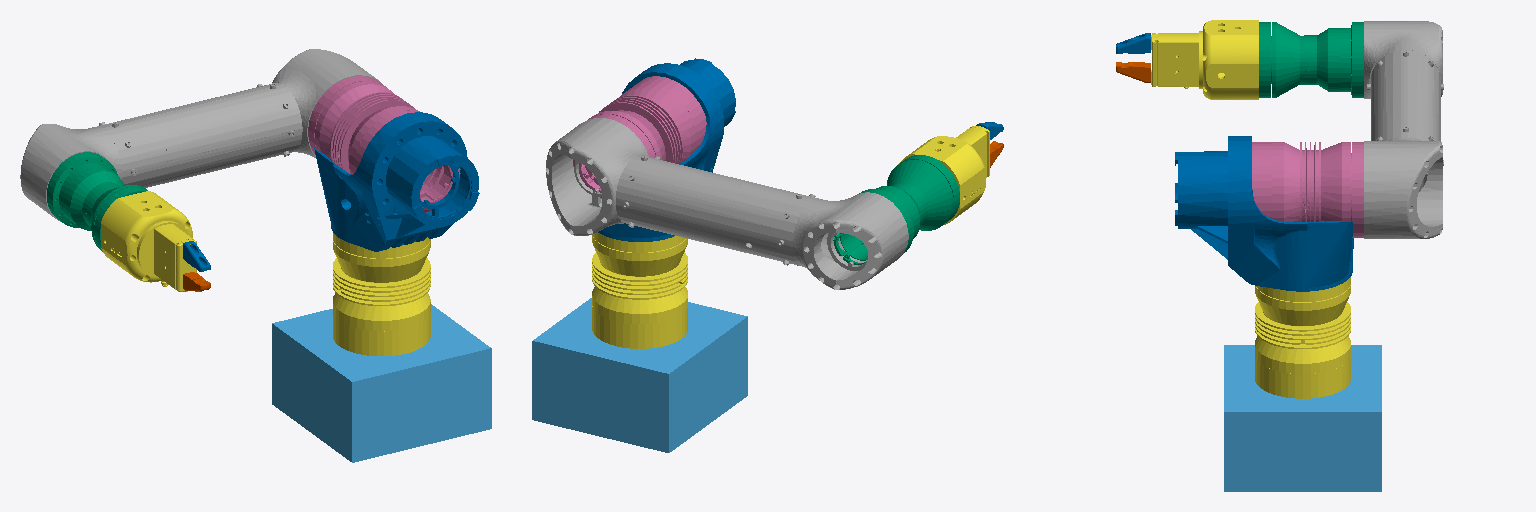
URDF robot description (modrob0):
<?xml version="1.0"?>
<robot name="modrob0">

	<link name="world"/>

	<gazebo>
		<plugin name="gazebo_ros_control" filename="libgazebo_ros_control.so">
			<robotNamespace>/modrob0</robotNamespace>
			<robotSimType>gazebo_ros_control/DefaultRobotHWSim</robotSimType>
		</plugin>
	</gazebo>

	<link name="part0">
		<visual>
			<origin rpy="0.000000 -0.000000 0.000000" xyz="0.000000 0.000000 0.100000"/>
			<geometry>
				<mesh filename="package://modrob_simulation/stl_files/B_simple.STL"/>
			</geometry>
		</visual>
		<collision>
			<origin rpy="0.000000 -0.000000 0.000000" xyz="0.000000 0.000000 0.050000"/>
			<geometry>
				<box size="0.180000 0.180000 0.100000"/>
			</geometry>
		</collision>
	</link>

	<gazebo reference="part0">
		<material>Gazebo/DarkGrey</material>
	</gazebo>

	<gazebo reference="part0">
		<kp>0.000000</kp>
		<kd>0.000000</kd>
		<mu1>0.000000</mu1>
		<mu2>0.000000</mu2>
	</gazebo>

	<link name="distal_link_of_joint0_NV">
		<inertial>
			<origin rpy="0.000000 0.000000 0.000000" xyz="0.000630 0.000190 -0.009660"/>
			<mass value="0.588000"/>
			<inertia ixx="0.000840" ixy="0.000000" ixz="-0.000011" iyy="0.000833" iyz="-0.000001" izz="0.000732"/>
		</inertial>
	</link>

	<gazebo reference="distal_link_of_joint0_NV">
		<material></material>
	</gazebo>

	<gazebo reference="distal_link_of_joint0_NV">
		<kp>0.000000</kp>
		<kd>0.000000</kd>
		<mu1>0.000000</mu1>
		<mu2>0.000000</mu2>
	</gazebo>

	<link name="proximal_link_of_joint0">
		<inertial>
			<origin rpy="0.000000 0.000000 0.000000" xyz="0.000180 0.000130 0.054300"/>
			<mass value="2.795000"/>
			<inertia ixx="0.014000" ixy="-0.000002" ixz="-0.000003" iyy="0.014000" iyz="0.000005" izz="0.000732"/>
		</inertial>
		<visual>
			<origin rpy="0.000000 -0.000000 0.000000" xyz="0.000000 0.000000 0.135300"/>
			<geometry>
				<mesh filename="package://modrob_simulation/stl_files/MXL_low_poly.STL"/>
			</geometry>
		</visual>
		<collision>
			<origin rpy="0.000000 -0.000000 0.000000" xyz="0.000000 0.000000 0.055150"/>
			<geometry>
				<box size="0.110000 0.110000 0.205480"/>
			</geometry>
		</collision>
	</link>

	<gazebo reference="proximal_link_of_joint0">
		<material>Gazebo/Blue</material>
	</gazebo>

	<gazebo reference="proximal_link_of_joint0">
		<kp>10000.000000</kp>
		<kd>10.000000</kd>
		<mu1>0.200000</mu1>
		<mu2>0.200000</mu2>
	</gazebo>

	<link name="link1">
		<inertial>
			<origin rpy="0.000000 0.000000 0.000000" xyz="0.000200 -0.036560 0.054520"/>
			<mass value="0.581910"/>
			<inertia ixx="0.004886" ixy="0.000007" ixz="-0.000007" iyy="0.003453" iyz="0.001714" izz="0.000000"/>
		</inertial>
		<visual>
			<origin rpy="2.356194 -1.570796 2.356194" xyz="0.000000 -0.065500 0.100900"/>
			<geometry>
				<mesh filename="package://modrob_simulation/stl_files/L_Rasmus_01_90_LL_low_poly.STL"/>
			</geometry>
		</visual>
		<collision>
			<origin rpy="2.356194 -1.570796 2.356194" xyz="0.000000 -0.043660 0.081282"/>
			<geometry>
				<box size="0.162565 0.123596 0.203680"/>
			</geometry>
		</collision>
	</link>

	<gazebo reference="link1">
		<material>Gazebo/DarkGrey</material>
	</gazebo>

	<gazebo reference="link1">
		<kp>0.000000</kp>
		<kd>0.000000</kd>
		<mu1>0.000000</mu1>
		<mu2>0.000000</mu2>
	</gazebo>

	<gazebo reference="link1">
		<sensor name="link1_contact_sensor" type="contact">
			<always_on>1</always_on>
			<plugin name="modrob_contact_plugin" filename="libmodrob_contact_plugin.so">
				<name_space>modrob0</name_space>
			</plugin>
			<contact>
				<collision>distal_link_of_joint0_NV_fixed_joint_lump__link1_collision</collision>
			</contact>
		</sensor>
	</gazebo>

	<link name="distal_link_of_joint1_NV">
		<inertial>
			<origin rpy="0.000000 0.000000 0.000000" xyz="0.000630 0.000190 -0.009660"/>
			<mass value="0.588000"/>
			<inertia ixx="0.000840" ixy="0.000000" ixz="-0.000011" iyy="0.000833" iyz="-0.000001" izz="0.000732"/>
		</inertial>
	</link>

	<gazebo reference="distal_link_of_joint1_NV">
		<material></material>
	</gazebo>

	<gazebo reference="distal_link_of_joint1_NV">
		<kp>0.000000</kp>
		<kd>0.000000</kd>
		<mu1>0.000000</mu1>
		<mu2>0.000000</mu2>
	</gazebo>

	<link name="proximal_link_of_joint1">
		<inertial>
			<origin rpy="0.000000 0.000000 0.000000" xyz="0.000180 0.000130 0.054300"/>
			<mass value="2.795000"/>
			<inertia ixx="0.014000" ixy="0.000002" ixz="0.000003" iyy="0.014000" iyz="-0.000005" izz="0.000732"/>
		</inertial>
		<visual>
			<origin rpy="3.141593 -3.141593 1.570796" xyz="0.000000 0.000000 0.135300"/>
			<geometry>
				<mesh filename="package://modrob_simulation/stl_files/MXL+90_low_poly.STL"/>
			</geometry>
		</visual>
		<collision>
			<origin rpy="3.141593 -3.141593 1.570796" xyz="0.000000 0.000000 0.055150"/>
			<geometry>
				<box size="0.110000 0.110000 0.205480"/>
			</geometry>
		</collision>
	</link>

	<gazebo reference="proximal_link_of_joint1">
		<material>Gazebo/Blue</material>
	</gazebo>

	<gazebo reference="proximal_link_of_joint1">
		<kp>10000.000000</kp>
		<kd>10.000000</kd>
		<mu1>0.200000</mu1>
		<mu2>0.200000</mu2>
	</gazebo>

	<gazebo reference="proximal_link_of_joint1">
		<sensor name="proximal_link_of_joint1_contact_sensor" type="contact">
			<always_on>1</always_on>
			<plugin name="modrob_contact_plugin" filename="libmodrob_contact_plugin.so">
				<name_space>modrob0</name_space>
			</plugin>
			<contact>
				<collision>distal_link_of_joint0_NV_fixed_joint_lump__proximal_link_of_joint1_collision_1</collision>
			</contact>
		</sensor>
	</gazebo>

	<link name="link2">
		<inertial>
			<origin rpy="0.000000 0.000000 0.000000" xyz="0.196128 0.000005 0.044778"/>
			<mass value="1.591660"/>
			<inertia ixx="0.005537" ixy="-0.000002" ixz="-0.014137" iyy="0.093690" iyz="-0.000001" izz="0.000000"/>
		</inertial>
		<visual>
			<origin rpy="-3.141593 -0.000000 0.000000" xyz="0.350000 0.000000 0.000000"/>
			<geometry>
				<mesh filename="package://modrob_simulation/stl_files/L_360_350_LS_low_poly.STL"/>
			</geometry>
		</visual>
		<collision>
			<origin rpy="-3.141593 -0.000000 0.000000" xyz="0.169000 0.000002 0.045500"/>
			<geometry>
				<box size="0.449999 0.111992 0.091000"/>
			</geometry>
		</collision>
	</link>

	<gazebo reference="link2">
		<material>Gazebo/DarkGrey</material>
	</gazebo>

	<gazebo reference="link2">
		<kp>0.000000</kp>
		<kd>0.000000</kd>
		<mu1>0.000000</mu1>
		<mu2>0.000000</mu2>
	</gazebo>

	<gazebo reference="link2">
		<sensor name="link2_contact_sensor" type="contact">
			<always_on>1</always_on>
			<plugin name="modrob_contact_plugin" filename="libmodrob_contact_plugin.so">
				<name_space>modrob0</name_space>
			</plugin>
			<contact>
				<collision>distal_link_of_joint1_NV_fixed_joint_lump__link2_collision</collision>
			</contact>
		</sensor>
	</gazebo>

	<link name="tool_dummy">
		<inertial>
			<origin rpy="0.000000 0.000000 0.000000" xyz="0.000610 0.000080 0.047140"/>
			<mass value="0.000000"/>
			<inertia ixx="0.000000" ixy="0.000000" ixz="0.000000" iyy="0.000000" iyz="0.000000" izz="0.000000"/>
		</inertial>
	</link>

	<gazebo reference="tool_dummy">
		<material></material>
	</gazebo>

	<gazebo reference="tool_dummy">
		<kp>0.000000</kp>
		<kd>0.000000</kd>
		<mu1>0.000000</mu1>
		<mu2>0.000000</mu2>
	</gazebo>

	<link name="distal_link_of_joint2_NV">
		<inertial>
			<origin rpy="0.000000 0.000000 0.000000" xyz="-0.000044 -0.000008 -0.001115"/>
			<mass value="0.289400"/>
			<inertia ixx="0.000178" ixy="-0.000000" ixz="-0.000000" iyy="0.000178" iyz="0.000000" izz="0.000192"/>
		</inertial>
	</link>

	<gazebo reference="distal_link_of_joint2_NV">
		<material></material>
	</gazebo>

	<gazebo reference="distal_link_of_joint2_NV">
		<kp>0.000000</kp>
		<kd>0.000000</kd>
		<mu1>0.000000</mu1>
		<mu2>0.000000</mu2>
	</gazebo>

	<link name="proximal_link_of_joint2">
		<inertial>
			<origin rpy="0.000000 0.000000 0.000000" xyz="0.000610 0.000080 0.047140"/>
			<mass value="1.253380"/>
			<inertia ixx="0.004000" ixy="0.000000" ixz="0.000016" iyy="0.005000" iyz="-0.000000" izz="0.000192"/>
		</inertial>
		<visual>
			<origin rpy="0.000000 -0.000000 0.000000" xyz="0.000000 0.000000 0.119550"/>
			<geometry>
				<mesh filename="package://modrob_simulation/stl_files/MS_low_poly.STL"/>
			</geometry>
		</visual>
		<collision>
			<origin rpy="0.000000 -0.000000 0.000000" xyz="0.000000 0.000000 0.047275"/>
			<geometry>
				<box size="0.086000 0.086000 0.189730"/>
			</geometry>
		</collision>
	</link>

	<gazebo reference="proximal_link_of_joint2">
		<material>Gazebo/Blue</material>
	</gazebo>

	<gazebo reference="proximal_link_of_joint2">
		<kp>10000.000000</kp>
		<kd>10.000000</kd>
		<mu1>0.200000</mu1>
		<mu2>0.200000</mu2>
	</gazebo>

	<gazebo reference="proximal_link_of_joint2">
		<sensor name="proximal_link_of_joint2_contact_sensor" type="contact">
			<always_on>1</always_on>
			<plugin name="modrob_contact_plugin" filename="libmodrob_contact_plugin.so">
				<name_space>modrob0</name_space>
			</plugin>
			<contact>
				<collision>distal_link_of_joint1_NV_fixed_joint_lump__proximal_link_of_joint2_collision_1</collision>
			</contact>
		</sensor>
	</gazebo>


	<link name="hand">
		<inertial>
			<origin rpy="0.000000 0.000000 0.000000" xyz="0.000000 0.000000 0.06250"/>
			<mass value="0.184000"/>
			<inertia ixx="0.550000" ixy="-0.000002" ixz="-0.000003" iyy="0.930000" iyz="0.000005" izz="0.550000"/>
		</inertial>
		<visual>
			<origin rpy="0.000000 -0.000000 0.000000" xyz="0.000000 0.000000 0.06250"/>
		<geometry>
				<mesh filename="package://modrob_simulation/stl_files/E_Schimaneck.STL"/>
			</geometry>
		</visual>
		<collision>
			<origin rpy="0.000000 -0.000000 0.000000" xyz="0.002343744 0.000000 0.02165501"/>
			<geometry>
				<box size="0.08531006 0.08485281 0.1616900"/>
			</geometry>
			</collision>
	</link>

	<gazebo reference="hand">
		<material>Gazebo/DarkGrey</material>
	</gazebo>

	<gazebo reference="hand">
		<kp>0.000000</kp>
		<kd>0.000000</kd>
		<mu1>0.000000</mu1>
		<mu2>0.000000</mu2>
	</gazebo>

	<gazebo reference="hand">
		<sensor name="hand_collision_sensor" type="contact">
			<always_on>true</always_on>
			<plugin name="modrob_contact_plugin" filename="libmodrob_contact_plugin.so">
				<name_space>modrob0</name_space>
			</plugin>
			<contact>
				<collision>distal_link_of_joint2_NV_fixed_joint_lump__hand_collision</collision>
			</contact>
		</sensor>
	</gazebo>

	<link name="finger1">
		<inertial>
			<origin rpy="0.00000 0.000000 0.0" xyz="0.0 -0.000 0.001500"/>
			<mass value="0.006944"/>
			<inertia ixx="0.000004629" ixy="0.000000486" ixz="0.000000972" iyy="0.000004157" iyz="0.000001389" izz="0.00000138"/>
		</inertial>
		<visual>
			<origin rpy="0.000000 0.000000 0.0" xyz="0.0 -0.000 0.001500"/>
			<geometry>
				<mesh filename="package://modrob_simulation/stl_files/finger_Birne_Gimatic_m.STL"/>
			</geometry>
		</visual>
	</link>

	<gazebo reference="finger1">
		<material>Gazebo/Blue</material>
	</gazebo>

	<gazebo reference="finger1">
		<kp>110.000000</kp>
		<kd>10.000000</kd>
		<mu1>100.00</mu1>
		<mu2>100.00</mu2>
	</gazebo>

	<link name="finger2">
		<inertial>
			<origin rpy="0.00000 0.000000 0.0" xyz="0.000 0.00 0.001500"/>
			<mass value="0.006944"/>
			<inertia ixx="0.000004629" ixy="0.000000486" ixz="0.000000972" iyy="0.000004157" iyz="0.000001389" izz="0.00000138"/>
		</inertial>
		<visual>
			<origin rpy="0.000000 0.000000 0.0" xyz="0.000 0.00 0.001500"/>
			<geometry>
				<mesh filename="package://modrob_simulation/stl_files/finger_Birne_Gimatic_m.STL"/>
			</geometry>
		</visual>
	</link>

	<gazebo reference="finger2">
		<material>Gazebo/Blue</material>
	</gazebo>

	<gazebo reference="finger2">
		<kp>110.000000</kp>
		<kd>10.000000</kd>
		<mu1>100.00</mu1>
		<mu2>100.00</mu2>
	</gazebo>

	<joint name="fixed" type="fixed">
		<parent link="world"/>
		<child link="part0"/>
	</joint>
	<joint name="part0_joint0" type="fixed">
		<origin xyz="0.000000 0.000000 0.100000" rpy="0.000000 -0.000000 0.000000"/>
		<parent link="part0"/>
		<child link="proximal_link_of_joint0"/>
		<axis xyz="0.000000 0.000000 0.000000"/>
		<dynamics damping="0.000000" friction="0.000000"/>
	</joint>

	<joint name="joint0_link1" type="fixed">
		<origin xyz="0.000000 0.000000 0.135300" rpy="0.000000 -0.000000 0.000000"/>
		<parent link="distal_link_of_joint0_NV"/>
		<child link="link1"/>
		<axis xyz="0.000000 0.000000 0.000000"/>
		<dynamics damping="0.000000" friction="0.000000"/>
	</joint>

	<joint name="joint0" type="revolute">
		<origin xyz="0.000000 0.000000 0.000000" rpy="0.000000 -0.000000 0.000000"/>
		<parent link="proximal_link_of_joint0"/>
		<child link="distal_link_of_joint0_NV"/>
		<axis xyz="0.000000 0.000000 1.000000"/>
		<dynamics damping="51.459999" friction="36.560001"/>
		<limit effort="205.919998" velocity="1.890000" lower="-3.141593" upper="3.141593"/>
		<sensor name="force_torque_joint0" type="force_torque">
			<update_rate>100</update_rate>
		</sensor>
	</joint>

	<transmission name="trans0">
		<type>transmission_interface/SimpleTransmission</type>
		<joint name="joint0">
			<hardwareInterface>hardware_interface/EffortJointInterface</hardwareInterface>
		</joint>
		<actuator name="motor0">
			<hardwareInterface>hardware_interface/EffortJointInterface</hardwareInterface>
			<mechanicalReduction>160.000000</mechanicalReduction>
		</actuator>
	</transmission>

	<joint name="link1_joint1" type="fixed">
		<origin xyz="0.000000 -0.065500 0.100900" rpy="2.356194 -1.570796 2.356194"/>
		<parent link="link1"/>
		<child link="proximal_link_of_joint1"/>
		<axis xyz="0.000000 0.000000 0.000000"/>
		<dynamics damping="0.000000" friction="0.000000"/>
	</joint>

	<joint name="joint1_link2" type="fixed">
		<origin xyz="0.000000 0.000000 0.135300" rpy="3.141593 -3.141593 1.570796"/>
		<parent link="distal_link_of_joint1_NV"/>
		<child link="link2"/>
		<axis xyz="0.000000 0.000000 0.000000"/>
		<dynamics damping="0.000000" friction="0.000000"/>
	</joint>

	<joint name="joint1" type="revolute">
		<origin xyz="0.000000 0.000000 0.000000" rpy="0.000000 -0.000000 0.000000"/>
		<parent link="proximal_link_of_joint1"/>
		<child link="distal_link_of_joint1_NV"/>
		<axis xyz="0.000000 0.000000 1.000000"/>
		<dynamics damping="51.459999" friction="36.560001"/>
		<limit effort="205.919998" velocity="0.800000" lower="-3.141593" upper="3.141593"/>
		<sensor name="force_torque_joint1" type="force_torque">
			<update_rate>100</update_rate>
		</sensor>
	</joint>

	<transmission name="trans1">
		<type>transmission_interface/SimpleTransmission</type>
		<joint name="joint1">
			<hardwareInterface>hardware_interface/EffortJointInterface</hardwareInterface>
		</joint>
		<actuator name="motor1">
			<hardwareInterface>hardware_interface/EffortJointInterface</hardwareInterface>
			<mechanicalReduction>160.000000</mechanicalReduction>
		</actuator>
	</transmission>

	<joint name="link2_joint2" type="fixed">
		<origin xyz="0.350000 0.000000 0.000000" rpy="-3.141593 -0.000000 0.000000"/>
		<parent link="link2"/>
		<child link="proximal_link_of_joint2"/>
		<axis xyz="0.000000 0.000000 0.000000"/>
		<dynamics damping="0.000000" friction="0.000000"/>
	</joint>

	<joint name="joint2_tool_dummy" type="fixed">
		<origin xyz="0.000000 0.000000 0.119550" rpy="0.000000 -0.000000 0.000000"/>
		<parent link="distal_link_of_joint2_NV"/>
		<child link="tool_dummy"/>
		<axis xyz="0.000000 0.000000 0.000000"/>
		<dynamics damping="0.000000" friction="0.000000"/>
	</joint>

	<joint name="joint2" type="revolute">
		<origin xyz="0.000000 0.000000 0.000000" rpy="0.000000 -0.000000 0.000000"/>
		<parent link="proximal_link_of_joint2"/>
		<child link="distal_link_of_joint2_NV"/>
		<axis xyz="0.000000 0.000000 1.000000"/>
		<dynamics damping="13.170000" friction="6.019000"/>
		<limit effort="54.000000" velocity="3.050000" lower="-3.141593" upper="3.141593"/>
		<sensor name="force_torque_joint2" type="force_torque">
			<update_rate>100</update_rate>
		</sensor>
	</joint>

	<transmission name="trans2">
		<type>transmission_interface/SimpleTransmission</type>
		<joint name="joint2">
			<hardwareInterface>hardware_interface/EffortJointInterface</hardwareInterface>
		</joint>
		<actuator name="motor2">
			<hardwareInterface>hardware_interface/EffortJointInterface</hardwareInterface>
			<mechanicalReduction>120.000000</mechanicalReduction>
		</actuator>
	</transmission>


	<joint name="fixed_gripper_to_arm_link" type="fixed">
		<origin rpy="0.000000 0.000000 0.000000" xyz="0.000000 0.000000 0.059775"/>
		<parent link="tool_dummy"/>
		<child link="hand"/>
	</joint>

	<joint name="hand_to_finger1" type="prismatic">
		<origin rpy="0.000000 0.000000 +1.570796327" xyz="0.00700 -0.03200 0.06200"/>
		<parent link="hand"/>
		<child link="finger1"/>
		<dynamics damping="12.590000" friction="0.400000"/>
		<limit effort="3.0" lower="-0.0" upper="0.0100" velocity="0.5"/> <!-- was 0.38 and 0.0 -->
	</joint>

	<joint name="hand_to_finger2" type="prismatic">
		<origin rpy="0.000000 0.000000 -1.570796327" xyz="-0.00700 0.0620 0.06200"/>
		<parent link="hand"/>
		<child link="finger2"/>
		<dynamics damping="12.590000" friction="0.400000"/>
		<limit effort="3.0" lower="0.03" upper="0.04" velocity="0.5"/>
	</joint>

	<transmission name="trans_hand_to_finger1">
		<type>transmission_interface/SimpleTransmission</type>
		<joint name="hand_to_finger1">
			<hardwareInterface>hardware_interface/EffortJointInterface</hardwareInterface>
		</joint>
		<actuator name="motor_hand_to_finger1">
			<hardwareInterface>hardware_interface/EffortJointInterface</hardwareInterface>
			<mechanicalReduction>160</mechanicalReduction>
		</actuator>
	</transmission>

	<transmission name="trans_hand_to_finger2">
		<type>transmission_interface/SimpleTransmission</type>
		<joint name="hand_to_finger2">
			<hardwareInterface>hardware_interface/EffortJointInterface</hardwareInterface>
		</joint>
		<actuator name="motor_hand_to_finger2">
			<hardwareInterface>hardware_interface/EffortJointInterface</hardwareInterface>
			<mechanicalReduction>160</mechanicalReduction>
		</actuator>
	</transmission>

</robot>

--- Facts derived from the render (not from the file) ---
Views: 3 orthographic renders of the robot side by side, from view 1: azimuth 30°, elevation 25°; view 2: azimuth 150°, elevation 25°; view 3: azimuth 270°, elevation 25°.
Robot: modrob0 — 14 links, 13 joints (3 revolute, 2 prismatic, 8 fixed); root link world; default pose: joints at zero except 1 at the middle of their limits (hand_to_finger2 = 0.035).
Links seen in each view (by area): view 1: part0, link2, link1, proximal_link_of_joint0, proximal_link_of_joint1, hand, proximal_link_of_joint2, finger1; view 2: link2, part0, proximal_link_of_joint0, proximal_link_of_joint1, proximal_link_of_joint2, link1, hand; view 3: part0, link2, link1, proximal_link_of_joint0, proximal_link_of_joint1, hand, proximal_link_of_joint2, finger2, finger1.
Link boxes in pixels (<box>): part0: <box>272,304,491,462</box>; link2: <box>20,49,381,221</box>; link1: <box>314,112,479,251</box>; proximal_link_of_joint0: <box>333,233,430,355</box>; proximal_link_of_joint1: <box>308,76,460,212</box>; hand: <box>101,191,196,291</box>; proximal_link_of_joint2: <box>47,152,147,251</box>; finger1: <box>183,241,210,271</box>; link2: <box>546,118,908,289</box>; part0: <box>532,298,747,452</box>; proximal_link_of_joint0: <box>592,233,687,348</box>; proximal_link_of_joint1: <box>573,76,706,198</box>; proximal_link_of_joint2: <box>833,155,959,264</box>; link1: <box>598,58,735,241</box>; hand: <box>898,126,989,224</box>; part0: <box>1224,345,1381,491</box>; link2: <box>1364,21,1443,238</box>; link1: <box>1175,136,1353,291</box>; proximal_link_of_joint0: <box>1255,277,1350,398</box>; proximal_link_of_joint1: <box>1252,142,1363,237</box>; hand: <box>1151,20,1258,99</box>; proximal_link_of_joint2: <box>1259,22,1363,97</box>; finger2: <box>1116,62,1150,82</box>; finger1: <box>1116,33,1150,53</box>.
Size in the robot's own frame: 0.484 by 0.3738 by 0.3981 metres.
Meshes: 8 distinct files referenced, 9 mesh visuals loaded (8 binary STL).
